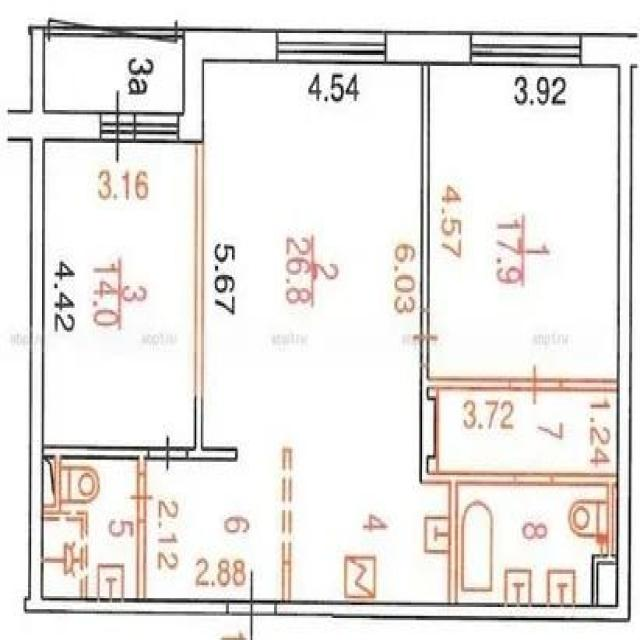Bathrooms: (458, 485, 609, 603), (44, 459, 137, 598)
Corridors: (146, 449, 291, 600), (439, 390, 616, 471), (46, 37, 182, 112)
Doors: (225, 567, 276, 640), (100, 88, 136, 164), (509, 361, 561, 405), (147, 434, 188, 474), (412, 309, 440, 366), (128, 473, 153, 522), (514, 472, 552, 486)
LBwalls: (581, 32, 640, 606), (178, 27, 278, 145), (28, 141, 46, 599), (385, 30, 470, 65), (7, 110, 100, 141), (29, 27, 45, 111)
Offices: (204, 63, 448, 602), (431, 67, 616, 377), (46, 141, 194, 445)
Walls: (419, 364, 514, 605), (187, 142, 237, 462), (552, 473, 618, 605), (275, 600, 631, 621), (43, 446, 151, 513), (43, 15, 184, 46), (24, 599, 228, 615), (420, 64, 429, 309), (137, 521, 146, 599), (561, 379, 618, 391)
Windows: (470, 31, 581, 67), (276, 29, 386, 64), (135, 112, 178, 143)
